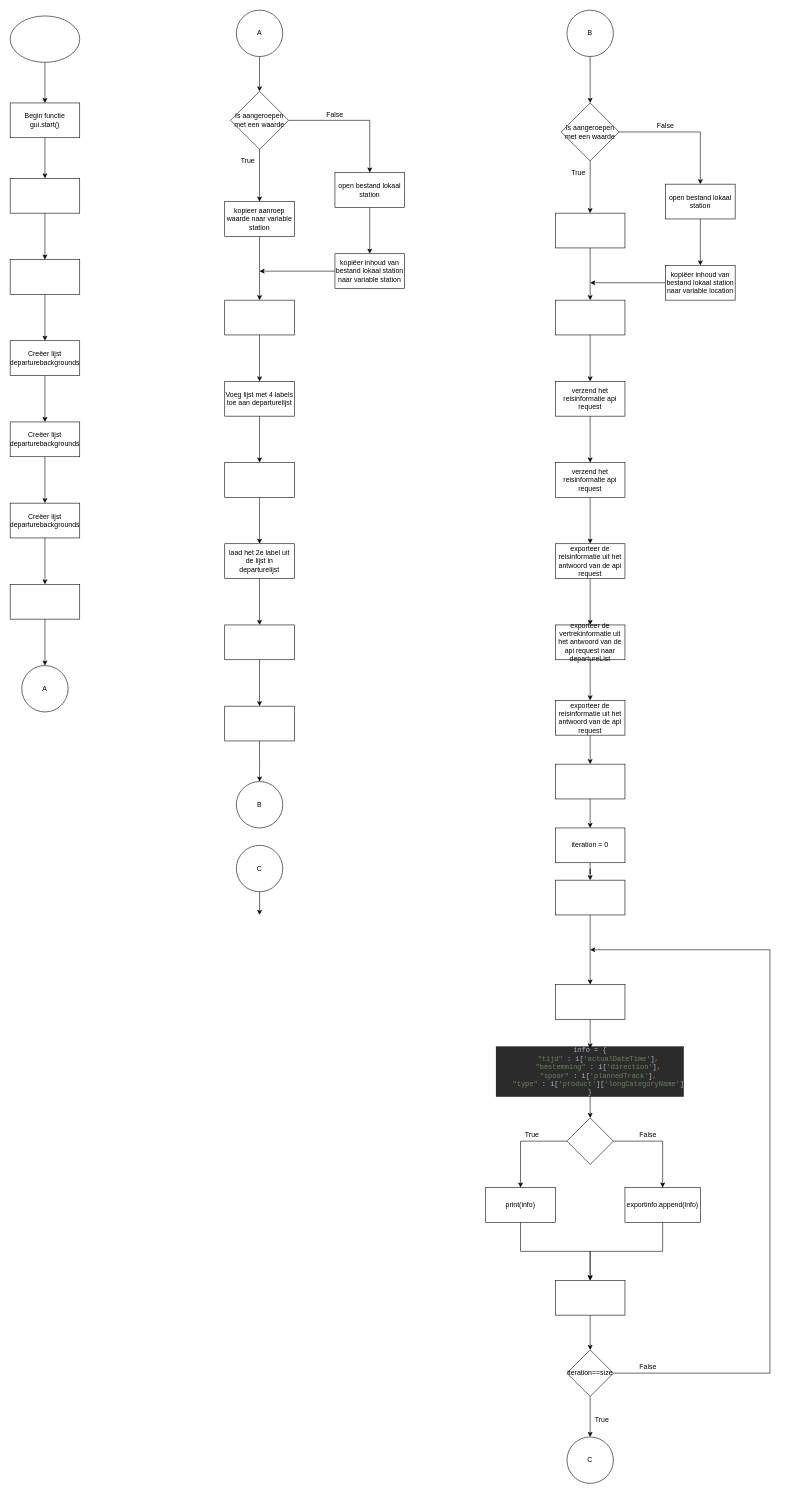
The diagram is 785 pixels wide and 1494 high, and some of its shapes have lost their labels. Here are the shapes that lost their labels. From the top down, the centre of each, then its label:
point 45,38: Start
point 45,195: Bouw GUI op
point 590,230: kopieer aanroep waarde naar variable location
point 45,276: Creëer lijst departurelijst
point 259,317: Voeg frame toe aan departurebackgrounds
point 590,317: stel de api parameters in
point 259,479: laad het 1e label uit de lijst in departurelijst
point 45,601: Start functie loaddepartures()
point 259,642: laad het 3e label uit de lijst in departurelijst
point 259,723: laad het 4e label uit de lijst in departurelijst
point 590,781: size = len(departureList)-1
point 590,897: exportinfo = []
point 590,1001: i = departureList[iteration]
point 589,1140: i['cancelled']
point 590,1297: iteration+=1
